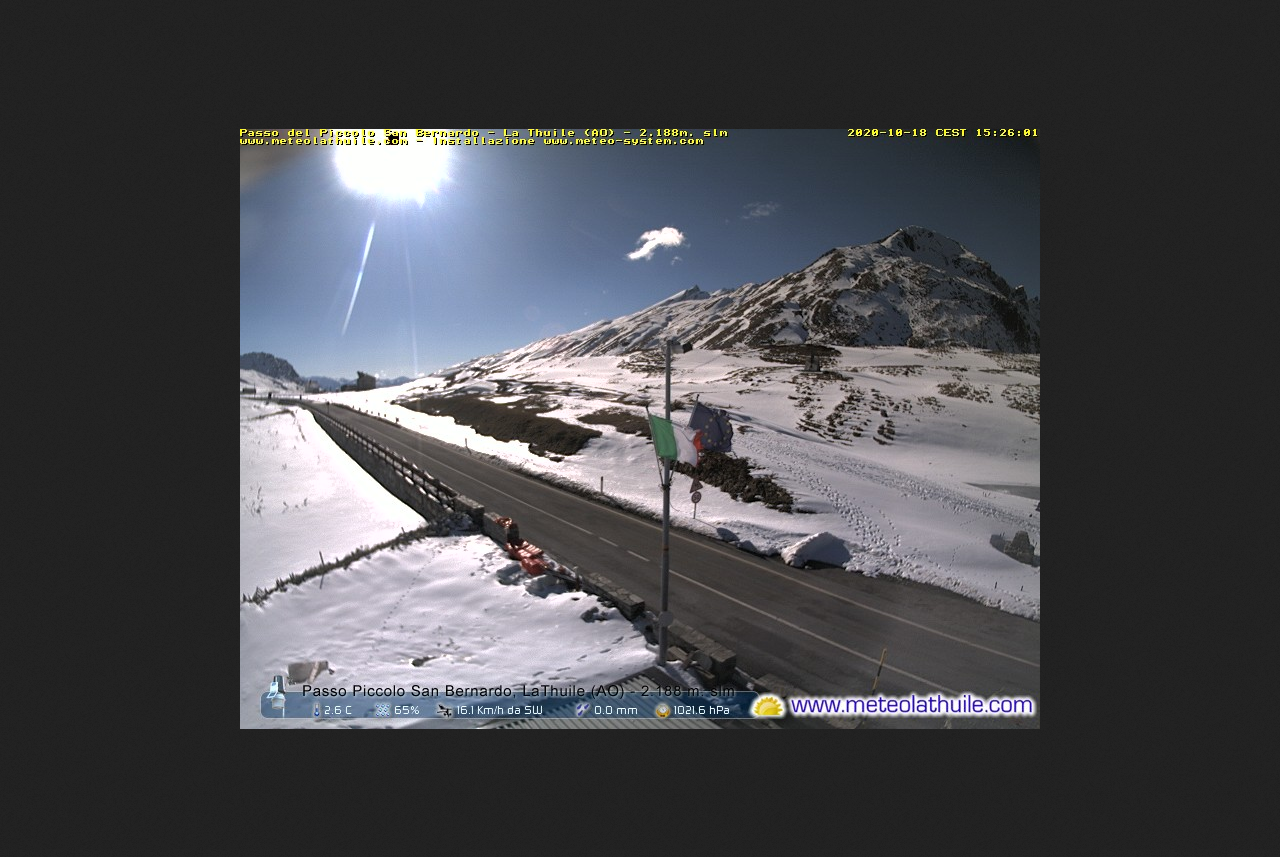yes: (638, 408, 709, 469), (686, 395, 738, 461)
